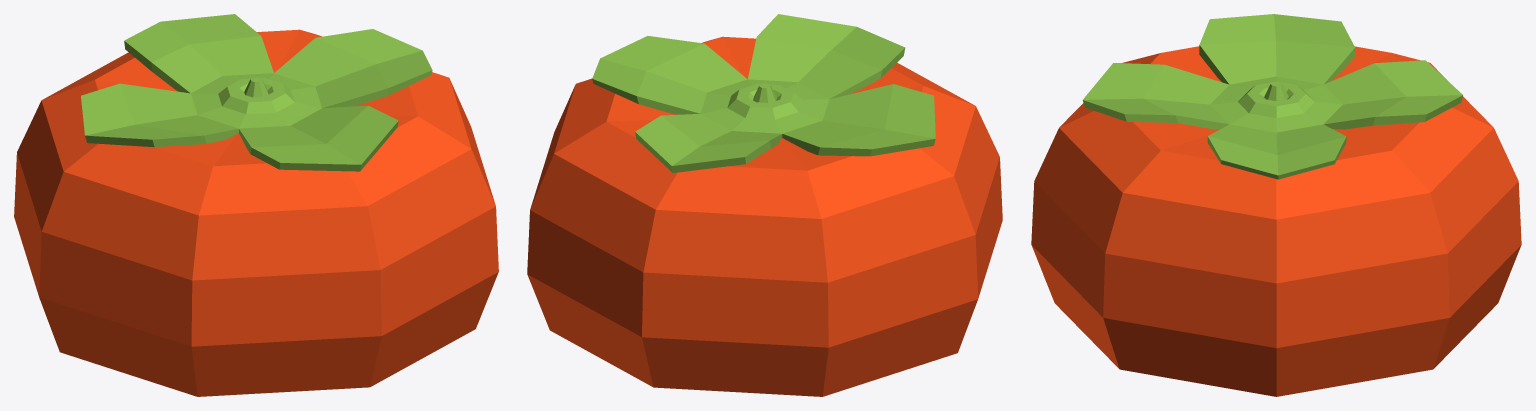
Rendered from Tomato.glb.
3 renders of one model, left to right at view 1: azimuth 30°, elevation 25°; view 2: azimuth 150°, elevation 25°; view 3: azimuth 270°, elevation 25°, orthographic. The views are drawn at different scales.
Parts seen in each view (by area): view 1: Persimmon_Circle.003; view 2: Persimmon_Circle.003; view 3: Persimmon_Circle.003.
Boxes of the visible parts, x1,y1,x2,y2 form: Persimmon_Circle.003: (14, 14, 498, 396); Persimmon_Circle.003: (527, 14, 1002, 396); Persimmon_Circle.003: (1031, 14, 1521, 396).
Bounding box in the file's own units: 12.67 × 6.78 × 12.67.
